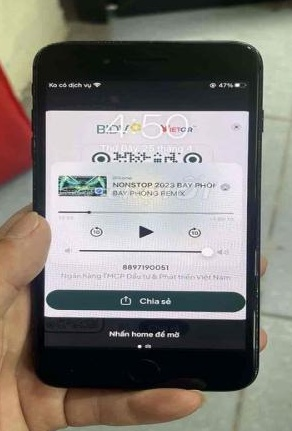scratch: (250, 241, 262, 379), (27, 42, 120, 53), (24, 123, 40, 178), (230, 39, 264, 60)
